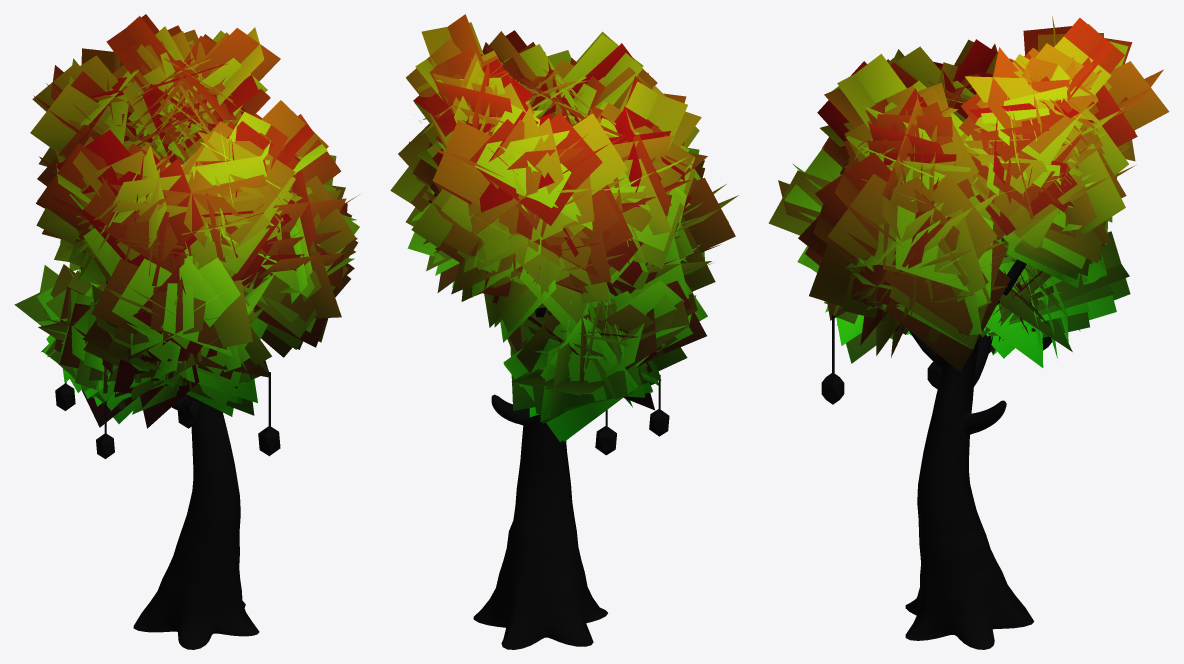
Rendered from env_tree_bg_qt_common_5.fbx.
3 views of the same model, side by side, from view 1: azimuth 30°, elevation 25°; view 2: azimuth 150°, elevation 25°; view 3: azimuth 270°, elevation 25° (orthographic). The views are drawn at different scales.
Parts seen in each view (by area): view 1: env_tree_bg_qt_common_5; view 2: env_tree_bg_qt_common_5; view 3: env_tree_bg_qt_common_5.
Boxes of the visible parts, x1,y1,x2,y2 form: env_tree_bg_qt_common_5: (14,14,359,649); env_tree_bg_qt_common_5: (390,14,738,649); env_tree_bg_qt_common_5: (768,16,1169,649).
Bounding box in the file's own units: 3.67 × 7.01 × 4.22.
